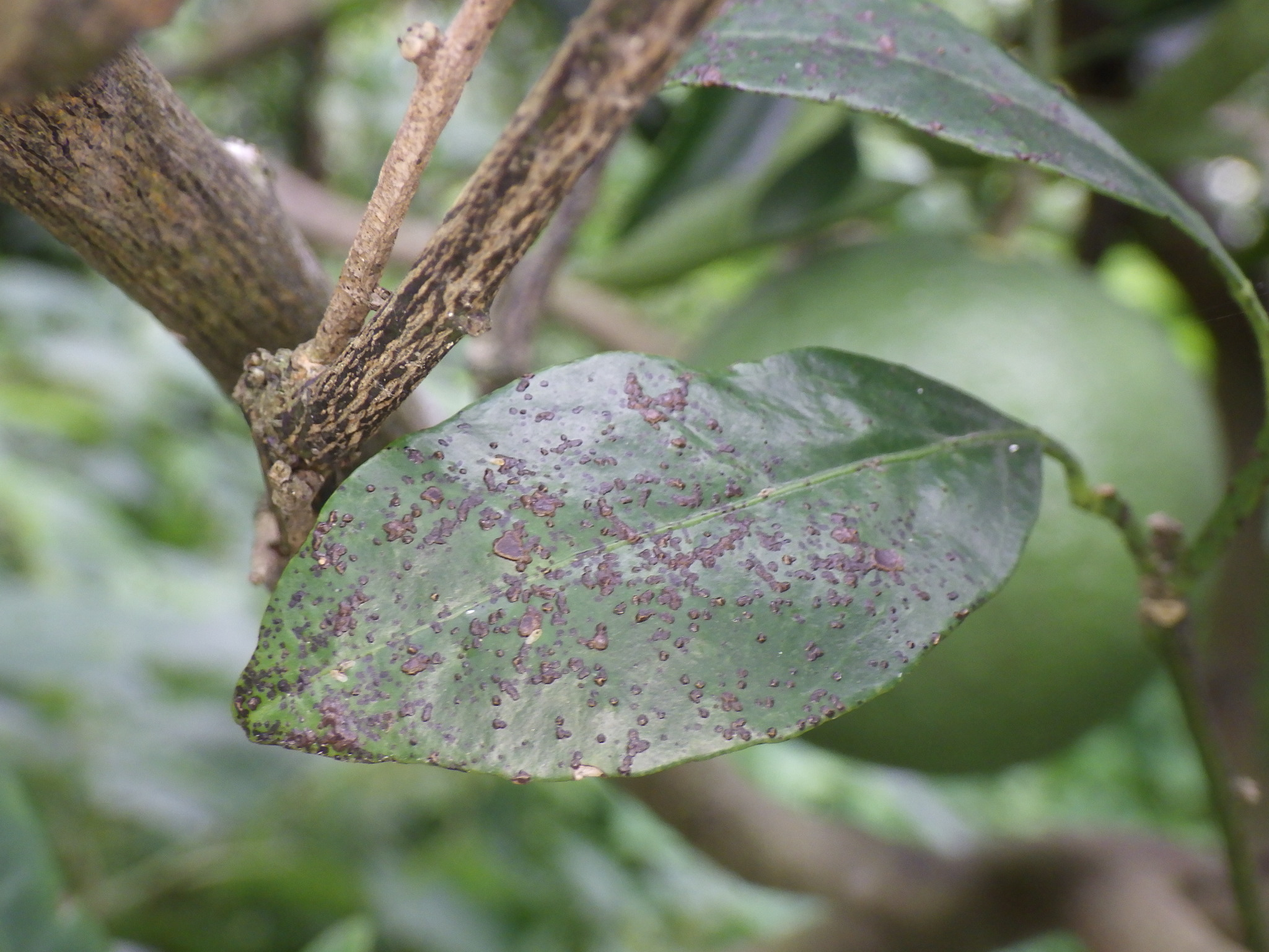Black_Spot: (236, 350, 1043, 782)
